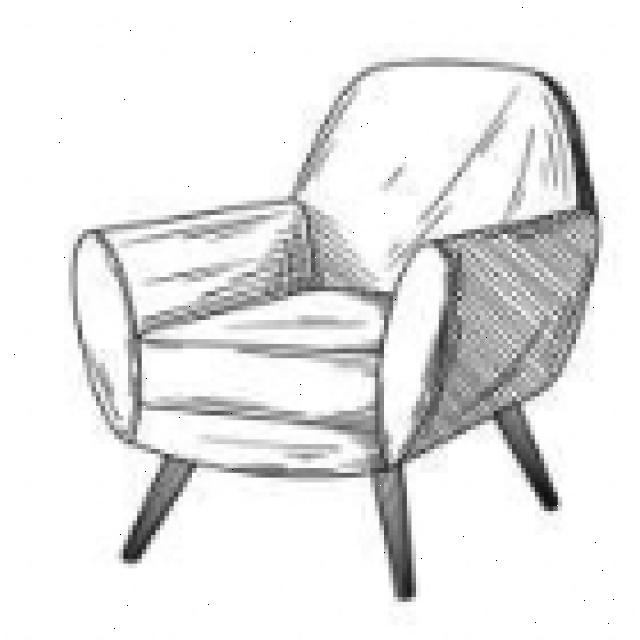Armrest: (376, 201, 601, 470), (72, 196, 317, 438)
Backrest: (114, 394, 568, 609), (290, 62, 598, 290)
Seat: (126, 286, 398, 476)
